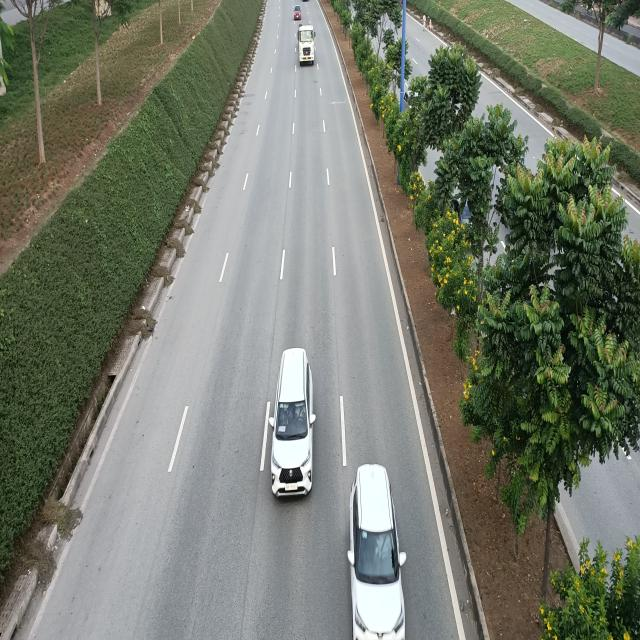car: (344, 465, 405, 639), (269, 349, 316, 498)
